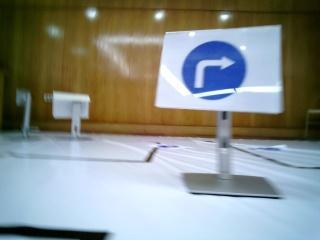right: (163, 32, 277, 108)
